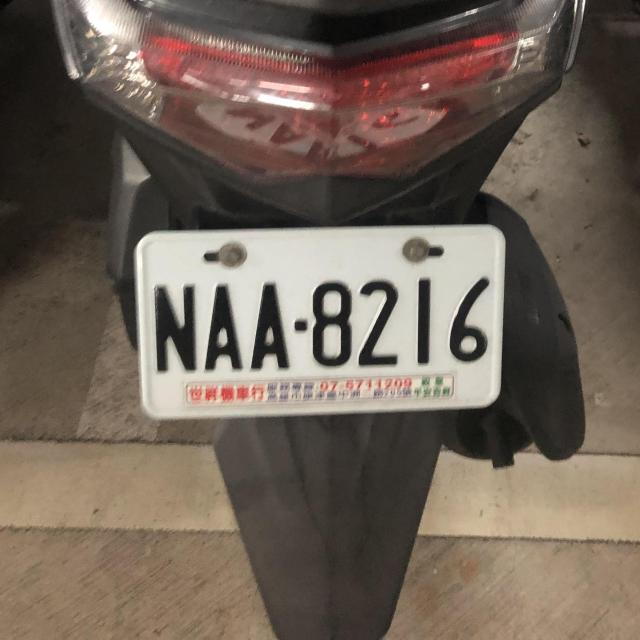W: (125, 209, 507, 433)
